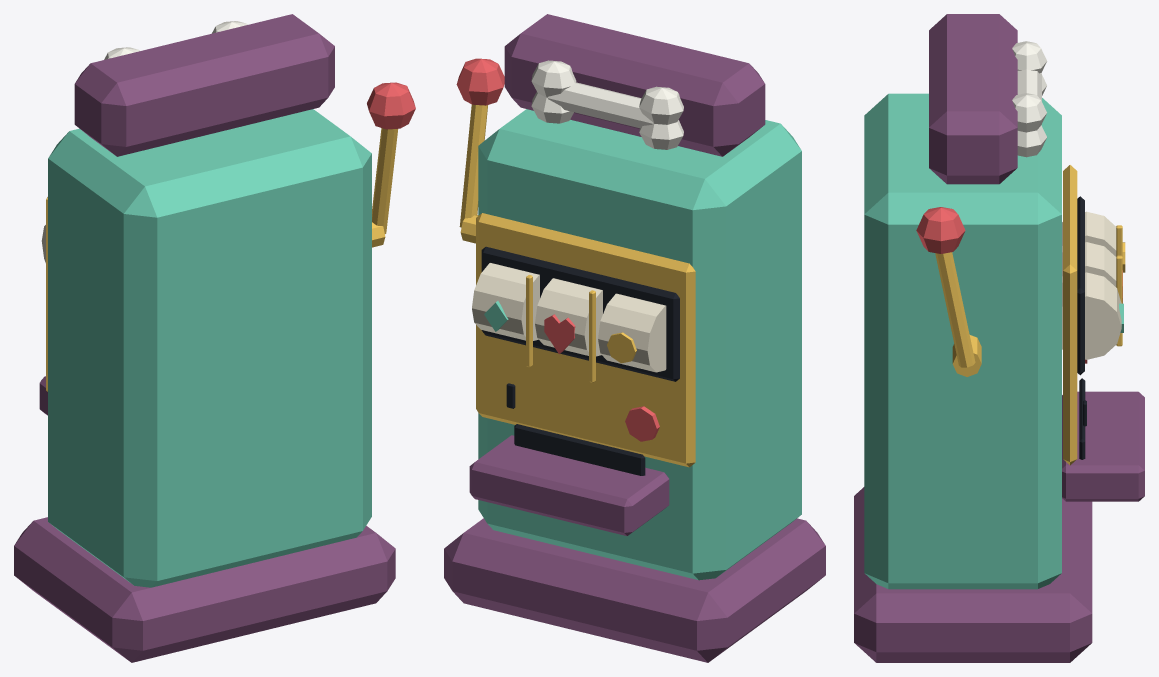
File: slot_machine.glb
The picture shows the model from 3 angles, left to right: view 1: azimuth 30°, elevation 25°; view 2: azimuth 150°, elevation 25°; view 3: azimuth 270°, elevation 25°; orthographic projection.
Parts seen in each view (by area): view 1: slot_machine; view 2: slot_machine; view 3: slot_machine.
Part boxes in pixels (box(x1,y1,x2,y2)): slot_machine: box(14, 14, 415, 662); slot_machine: box(444, 14, 825, 662); slot_machine: box(854, 14, 1144, 662).
Bounding box in the file's own units: 1.02 × 1.6 × 0.7784.
